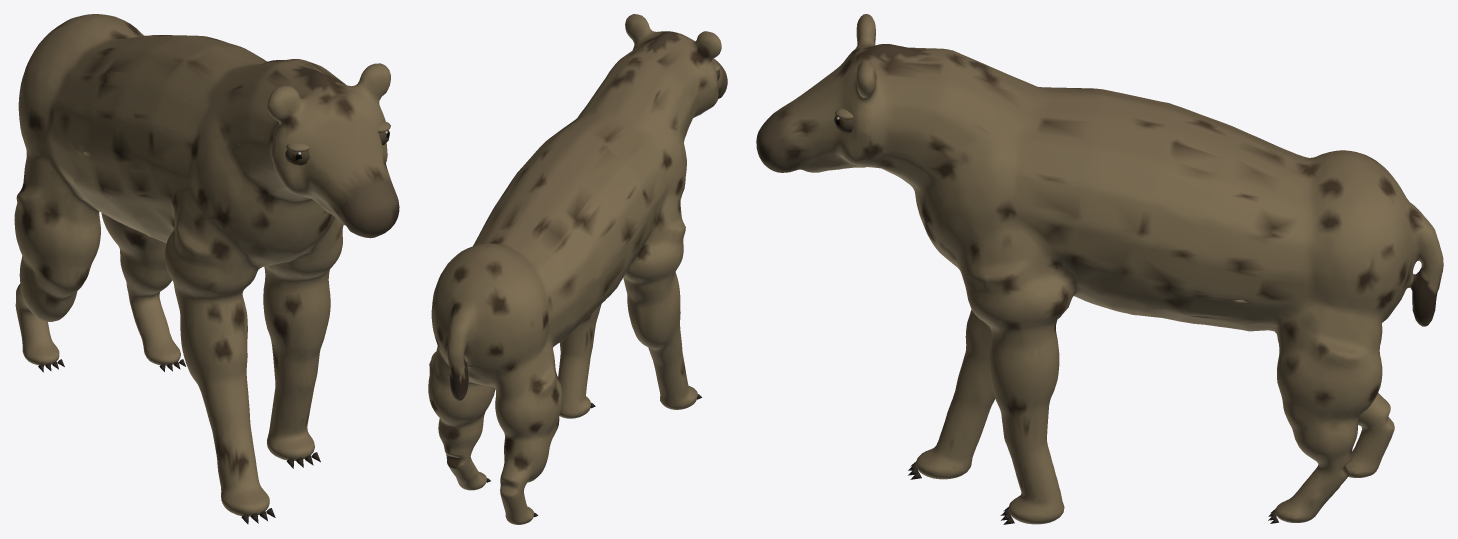
File: PachycrocutaBrevirostris.fbx
3 views of the same model, side by side, from view 1: azimuth 30°, elevation 25°; view 2: azimuth 150°, elevation 25°; view 3: azimuth 270°, elevation 25° (orthographic). The views are drawn at different scales.
Parts seen in each view (by area): view 1: PachycrocutaBrevirostris; view 2: PachycrocutaBrevirostris; view 3: PachycrocutaBrevirostris.
Part boxes in pixels (box(x1,y1,x2,y2)): PachycrocutaBrevirostris: box(14, 14, 399, 524); PachycrocutaBrevirostris: box(428, 14, 727, 524); PachycrocutaBrevirostris: box(756, 14, 1443, 524).
Size of the model in its own units: 0.4416 by 1.18 by 1.6.
